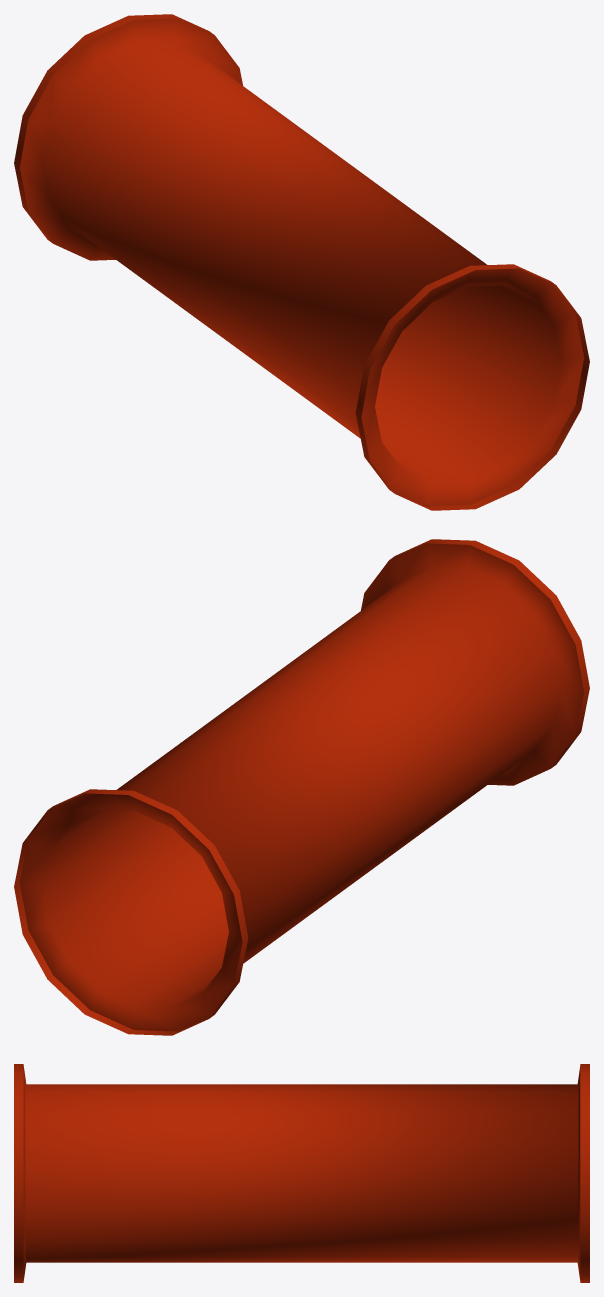
The model's file is Pipe_01_LOD0.FBX.
The picture shows the model from 3 angles, top to bottom: view 1: azimuth 30°, elevation 25°; view 2: azimuth 150°, elevation 25°; view 3: azimuth 270°, elevation 25°; orthographic projection. The views are drawn at different scales.
Visible parts, largest first — view 1: Pipe_up1_001_Low_LOD; view 2: Pipe_up1_001_Low_LOD; view 3: Pipe_up1_001_Low_LOD.
Boxes of the visible parts, x1,y1,x2,y2 form: Pipe_up1_001_Low_LOD: (14,14,589,510); Pipe_up1_001_Low_LOD: (14,539,589,1035); Pipe_up1_001_Low_LOD: (14,1064,589,1282).
Bounding box in the file's own units: 38 × 38 × 100.
